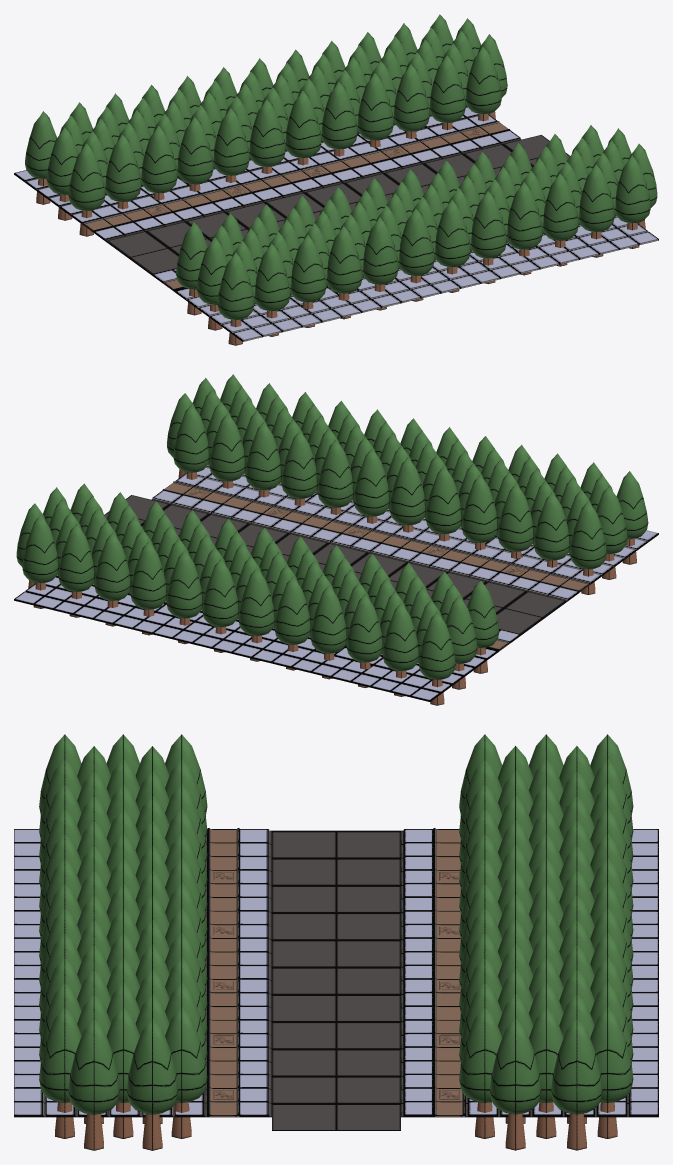
File: TraficMap.fbx
3 renders of one model, top to bottom at view 1: azimuth 30°, elevation 25°; view 2: azimuth 150°, elevation 25°; view 3: azimuth 270°, elevation 25°, orthographic. The views are drawn at different scales.
Parts seen in each view (by area): view 1: Cylinder110, Cylinder014, Cylinder115, Cylinder116, Cylinder111, Cylinder113, Cylinder120, Cylinder121, Cylinder119, Cylinder114, Cylinder118, Cylinder112 (+52 smaller); view 2: Cylinder002, Cylinder062, Cylinder066, Cylinder067, Cylinder068, Cylinder072, Cylinder070, Cylinder065, Cylinder071, Cylinder063, Cylinder064, Cylinder069 (+52 smaller); view 3: Cylinder037, Cylinder085, Cylinder109, Cylinder061, Cylinder025, Cylinder073, Cylinder013, Cylinder121, Cylinder049, Cylinder097, Box010, Box219 (+130 smaller).
Part boxes in pixels (<box>): Cylinder110: <box>217,252,254,345</box>; Cylinder014: <box>68,143,105,236</box>; Cylinder115: <box>399,208,434,301</box>; Cylinder116: <box>435,199,470,292</box>; Cylinder111: <box>255,243,290,336</box>; Cylinder113: <box>327,226,362,319</box>; Cylinder120: <box>579,164,614,257</box>; Cylinder121: <box>615,155,650,248</box>; Cylinder119: <box>543,173,578,266</box>; Cylinder114: <box>363,217,398,310</box>; Cylinder118: <box>507,182,542,275</box>; Cylinder112: <box>291,235,326,327</box>; Cylinder002: <box>570,501,606,594</box>; Cylinder062: <box>419,612,455,705</box>; Cylinder066: <box>274,577,310,670</box>; Cylinder067: <box>238,568,274,661</box>; Cylinder068: <box>202,559,238,652</box>; Cylinder072: <box>58,524,94,617</box>; Cylinder070: <box>130,542,166,635</box>; Cylinder065: <box>310,586,346,679</box>; Cylinder071: <box>94,533,130,626</box>; Cylinder063: <box>383,603,418,696</box>; Cylinder064: <box>346,594,382,687</box>; Cylinder069: <box>166,551,202,643</box>; Cylinder037: <box>490,1018,541,1150</box>; Cylinder085: <box>126,1019,178,1150</box>; Cylinder109: <box>68,1019,119,1150</box>; Cylinder061: <box>551,1018,602,1150</box>; Cylinder025: <box>459,1007,502,1138</box>; Cylinder073: <box>590,1007,633,1138</box>; Cylinder013: <box>165,1007,207,1138</box>; Cylinder121: <box>39,1007,81,1138</box>; Cylinder049: <box>529,1007,563,1138</box>; Cylinder097: <box>106,1007,139,1138</box>; Box010: <box>336,830,400,857</box>; Box219: <box>336,885,400,912</box>.
Size of the model in its own units: 3145 by 610 by 2800.
1 material, 1 textured.
